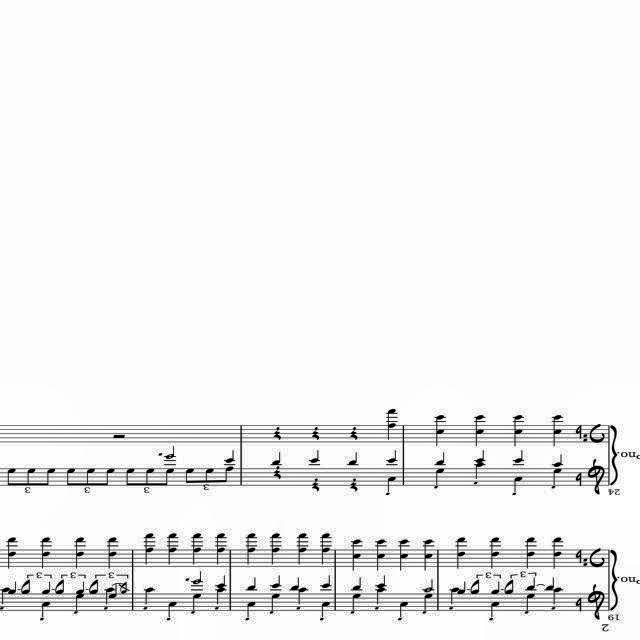Bass-clef: (585, 582, 609, 622), (586, 458, 610, 498)
Bemol: (571, 594, 585, 612), (570, 547, 584, 565), (574, 472, 586, 488), (575, 426, 585, 439)
Eighth-note: (223, 464, 241, 482), (103, 467, 117, 488), (163, 468, 177, 488), (66, 466, 80, 486), (124, 467, 136, 487), (86, 468, 98, 488), (46, 467, 58, 487), (27, 468, 39, 488), (6, 468, 18, 488), (142, 468, 154, 487), (19, 579, 33, 595), (204, 466, 216, 484), (184, 466, 196, 484), (504, 578, 516, 594), (89, 578, 99, 596), (54, 580, 66, 594), (470, 580, 480, 596)
Quarter-note: (486, 600, 502, 620), (344, 448, 360, 468), (141, 584, 155, 606), (520, 592, 538, 608), (316, 574, 332, 590), (215, 588, 229, 606), (318, 600, 332, 616), (244, 577, 258, 593), (306, 448, 320, 464), (269, 450, 283, 466), (374, 588, 388, 604), (246, 600, 258, 618), (166, 601, 178, 619), (192, 593, 204, 611), (350, 593, 362, 611), (552, 469, 564, 487), (474, 463, 486, 481), (164, 443, 176, 461), (38, 602, 51, 618), (374, 574, 388, 588), (398, 600, 410, 616), (420, 594, 432, 610), (424, 578, 436, 594), (270, 573, 282, 589), (512, 476, 524, 492), (386, 476, 398, 492), (41, 578, 51, 596), (350, 578, 362, 592), (192, 571, 204, 585), (215, 576, 229, 588), (270, 594, 280, 610), (435, 468, 445, 484), (388, 448, 398, 464), (225, 448, 235, 464), (552, 454, 564, 466), (512, 451, 524, 463), (434, 452, 446, 464), (474, 450, 486, 462), (490, 580, 500, 594)
Quarter-rest: (272, 422, 284, 442), (348, 423, 360, 441), (312, 424, 324, 442), (350, 474, 360, 494), (310, 476, 322, 492), (272, 466, 284, 482)
